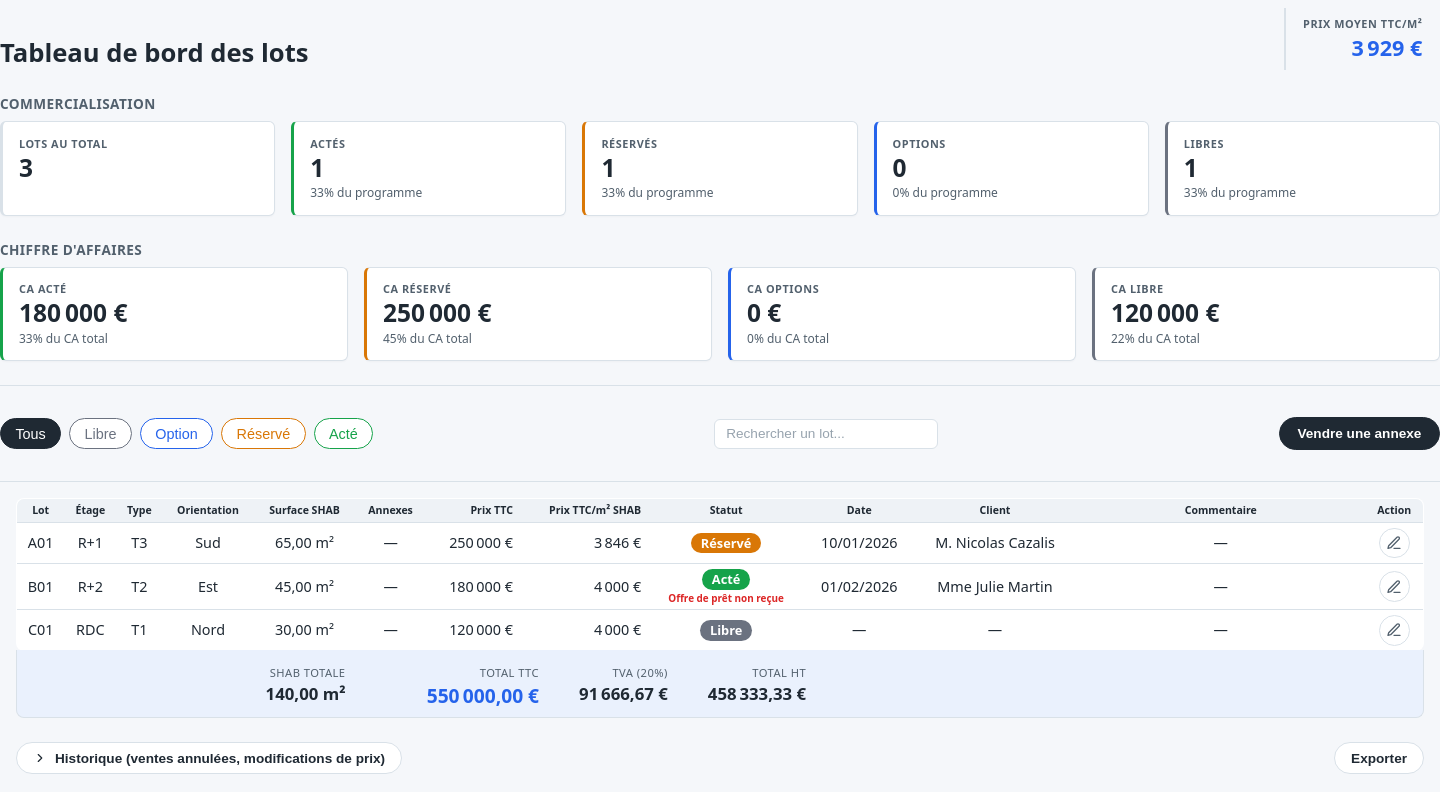
Scenario: Lots — modification du prix › changer le prix avec succès ferme le sous-panneau (voir docs/bugs.md)
This screenshot has width=1440, height=792.
Expected: the table is shown, [16,498,1424,651]
// A01 (réservé, pas encore Acté) : le prix reste modifiable.
Click the button named "Modifier" in the row of "A01".
click(1394, 543)  # box [1379,528,1410,558]
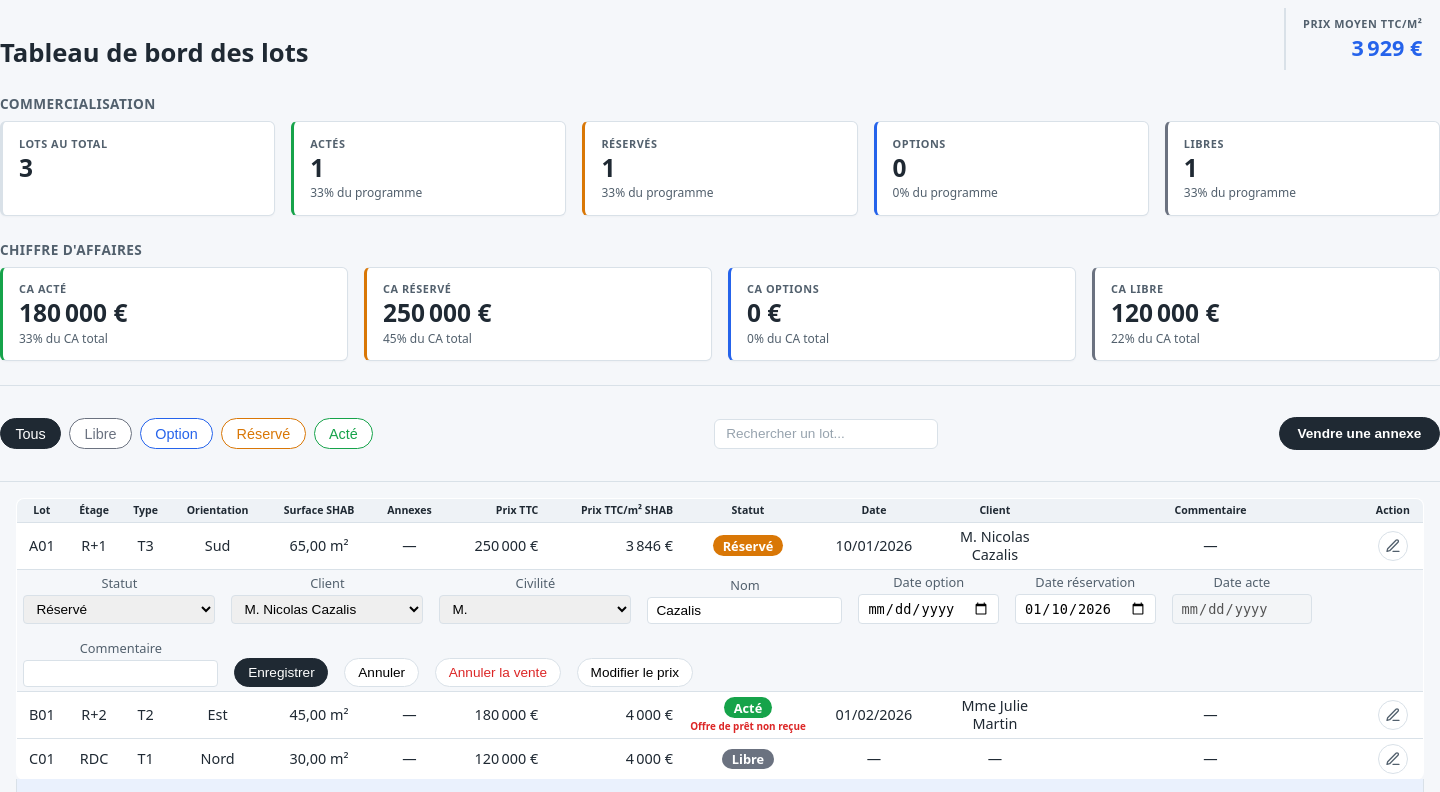
Click the button "Modifier le prix".
click(635, 672)  # box [577,658,693,686]
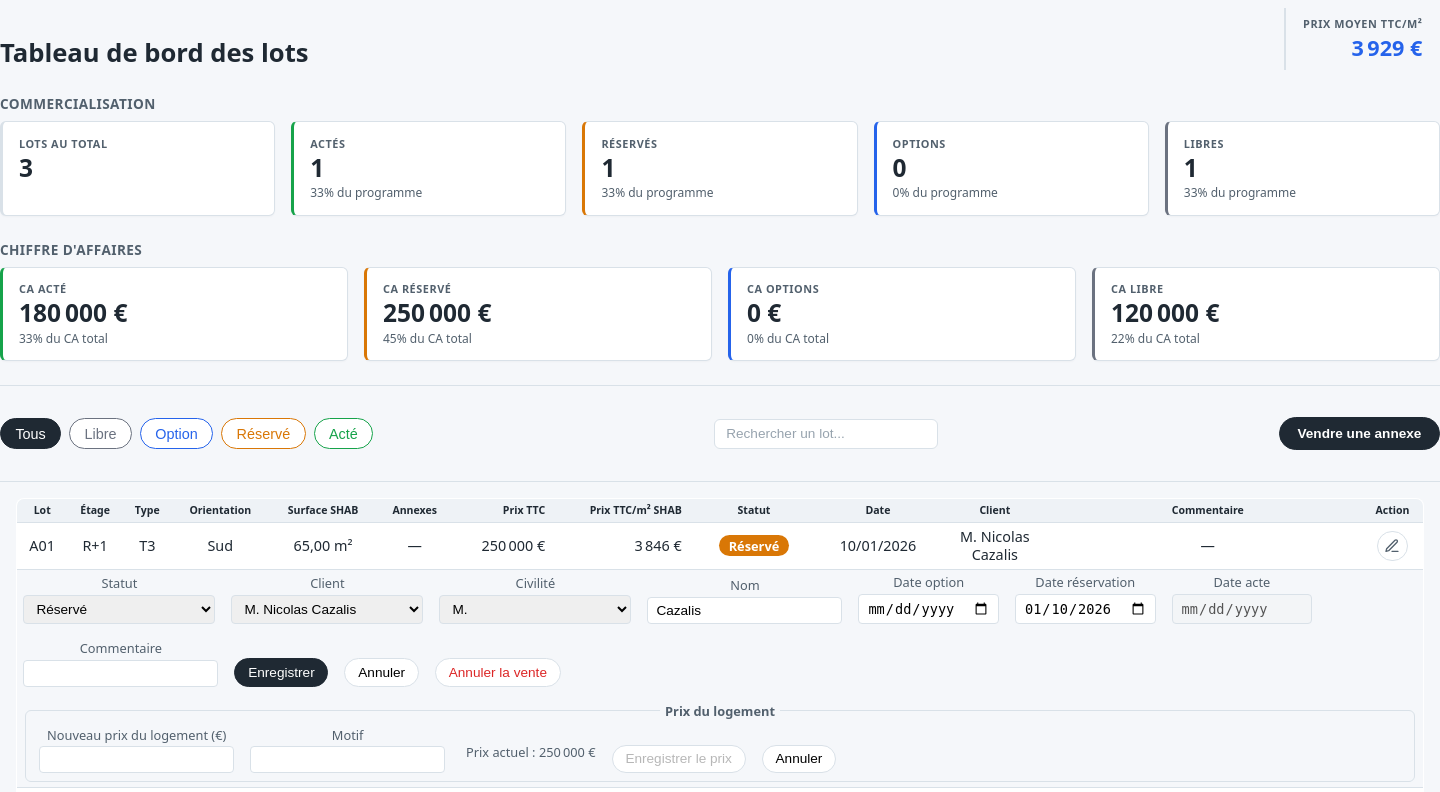
Type "260000" into the number field labelled "Nouveau prix du logement (€)".
click(137, 760); type("260000")  # box [39,746,234,773]
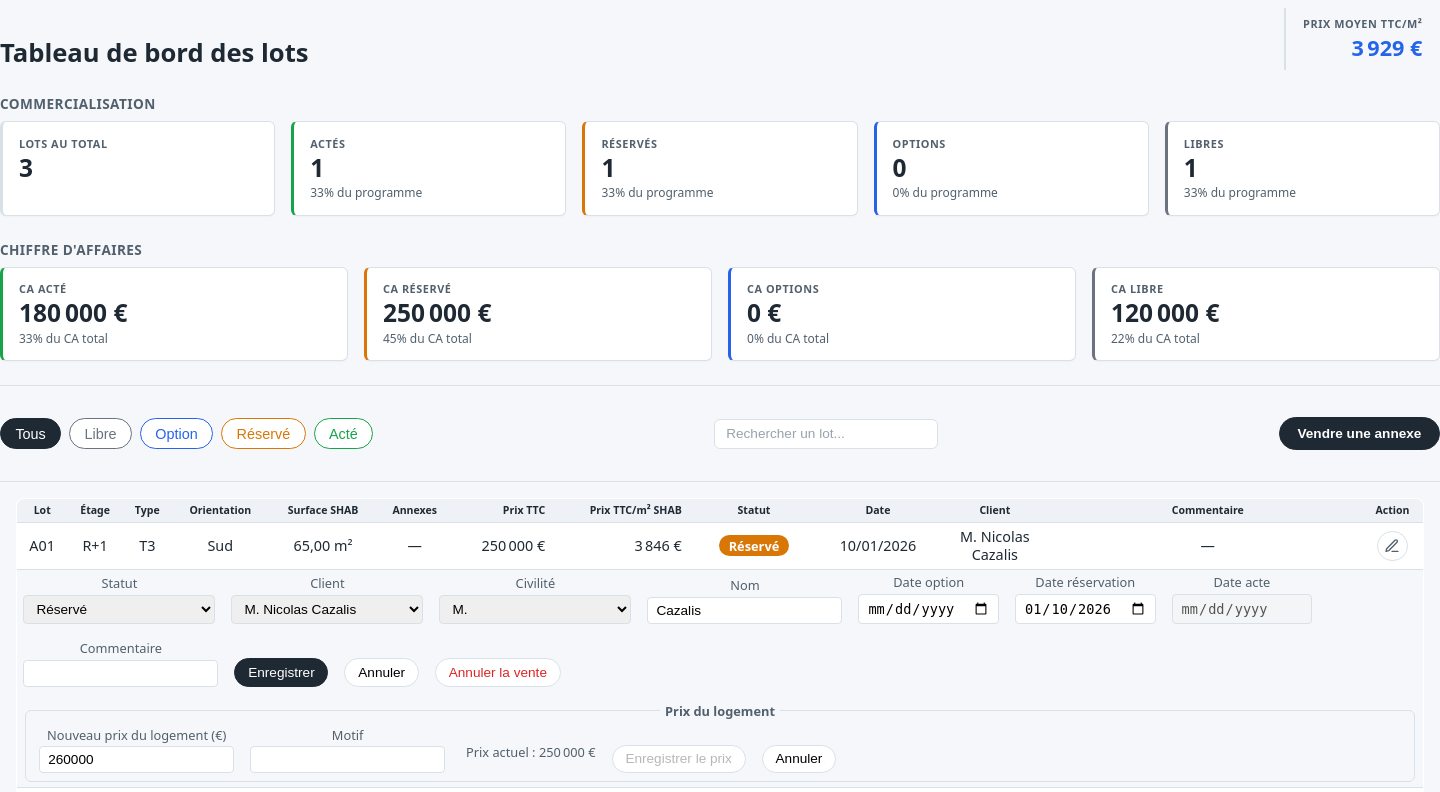
Type "Négociation" into the field labelled "Motif".
click(348, 760); type("Négociation")  # box [250,746,445,773]
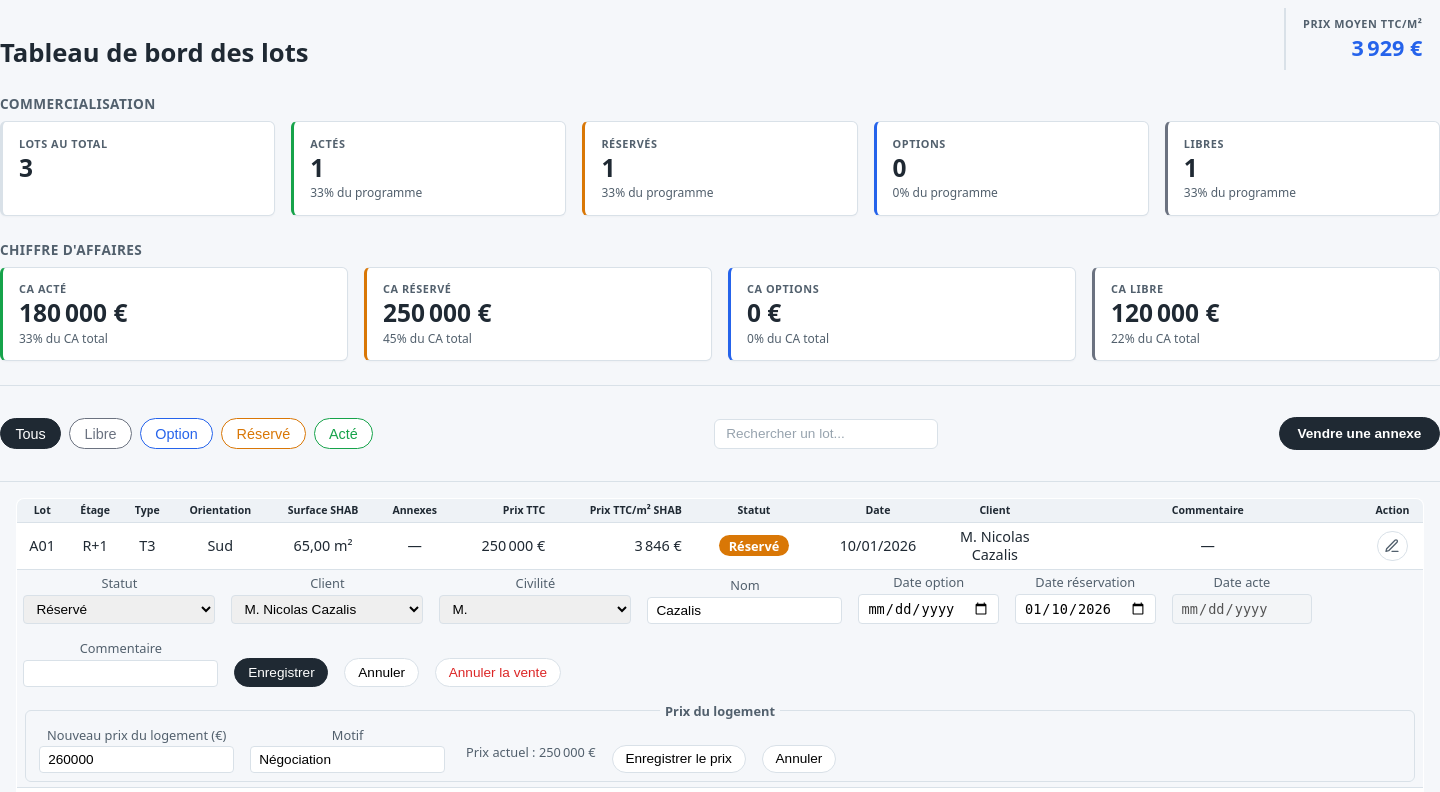
Click the button "Enregistrer le prix".
click(679, 759)  # box [612,745,746,773]
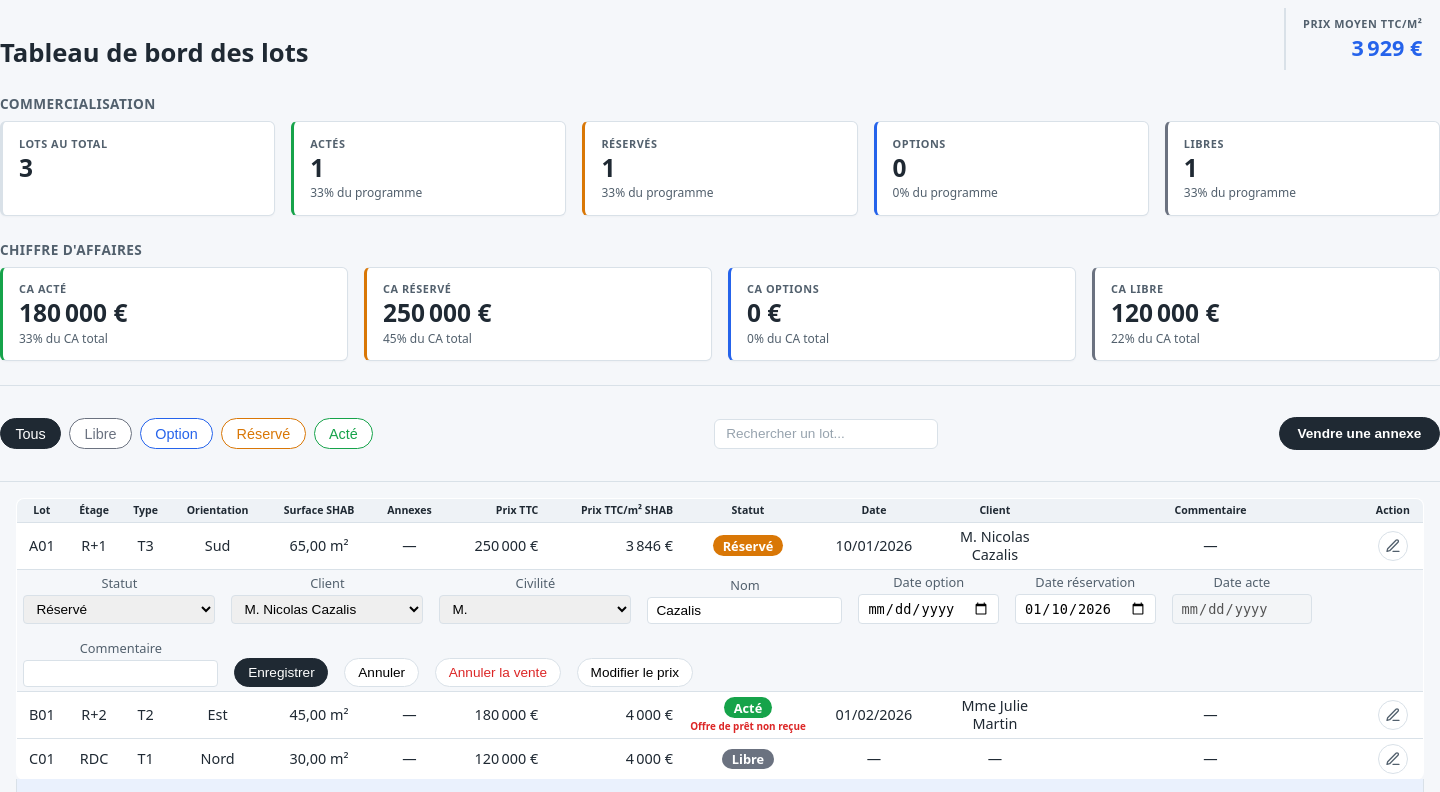
Now the text "Prix du logement" is gone
